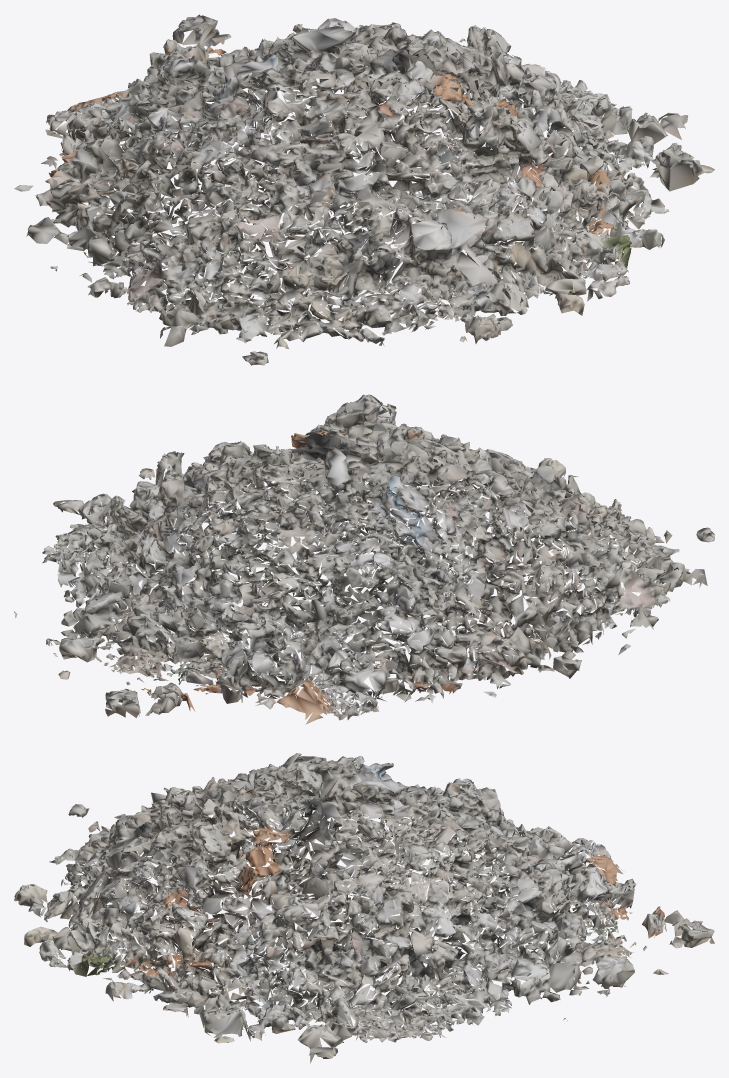
Rendered from concrete-rubble-pile.glb.
3 renders of one model, top to bottom at view 1: azimuth 30°, elevation 25°; view 2: azimuth 150°, elevation 25°; view 3: azimuth 270°, elevation 25°, orthographic. The views are drawn at different scales.
Parts seen in each view (by area): view 1: Object_2, Object_4, Object_5, Object_22, Object_3, Object_8, Object_16, Object_17, Object_7, Object_15, Object_18, Object_25 (+11 smaller); view 2: Object_7, Object_3, Object_8, Object_9, Object_2, Object_12, Object_19, Object_13, Object_22, Object_6, Object_20, Object_24 (+12 smaller); view 3: Object_12, Object_13, Object_3, Object_17, Object_19, Object_10, Object_14, Object_11, Object_2, Object_16, Object_4, Object_20 (+11 smaller).
Part boxes in pixels (x1,y1,x2,y2): Object_2: [169, 48, 496, 268]; Object_4: [207, 39, 565, 345]; Object_5: [169, 192, 515, 343]; Object_22: [88, 194, 306, 365]; Object_3: [157, 23, 455, 206]; Object_8: [62, 49, 293, 176]; Object_16: [417, 77, 714, 315]; Object_17: [436, 83, 668, 277]; Object_7: [35, 28, 309, 234]; Object_15: [163, 15, 644, 275]; Object_18: [426, 98, 699, 277]; Object_25: [14, 169, 191, 297]; Object_7: [181, 476, 581, 714]; Object_3: [208, 424, 552, 605]; Object_8: [218, 476, 514, 703]; Object_9: [239, 460, 554, 700]; Object_2: [296, 415, 595, 573]; Object_12: [64, 444, 316, 606]; Object_19: [46, 425, 334, 691]; Object_13: [74, 438, 345, 581]; Object_22: [552, 512, 714, 629]; Object_6: [141, 446, 624, 708]; Object_20: [47, 545, 266, 688]; Object_24: [249, 565, 641, 724]; Object_12: [221, 811, 546, 1013]; Object_13: [273, 804, 477, 1020]; Object_3: [166, 753, 530, 882]; Object_17: [59, 817, 277, 1037]; Object_19: [85, 843, 633, 1004]; Object_10: [203, 794, 576, 1058]; Object_14: [269, 801, 473, 1014]; Object_11: [238, 830, 479, 1063]; Object_2: [151, 758, 359, 867]; Object_16: [24, 807, 275, 1043]; Object_4: [44, 766, 428, 929]; Object_20: [465, 859, 634, 1015].
Bounding box in the file's own units: 20.78 × 5.4 × 22.51.
